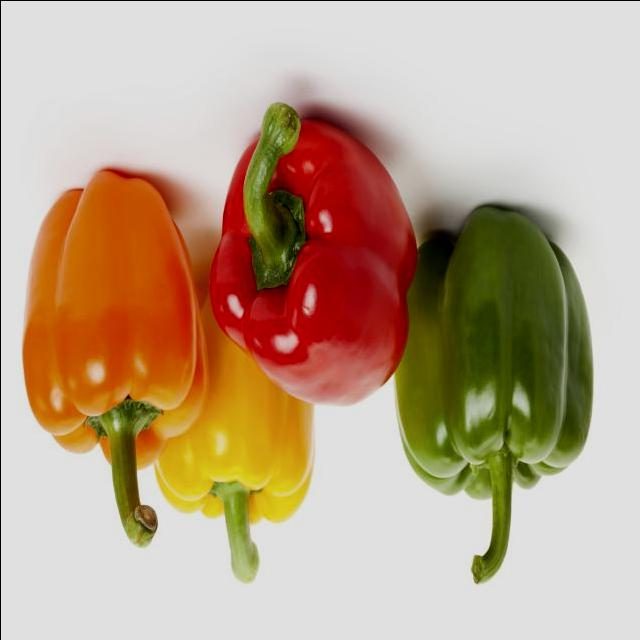bell_pepper: (407, 200, 602, 577), (25, 167, 203, 546), (211, 98, 411, 410), (150, 264, 316, 584)
